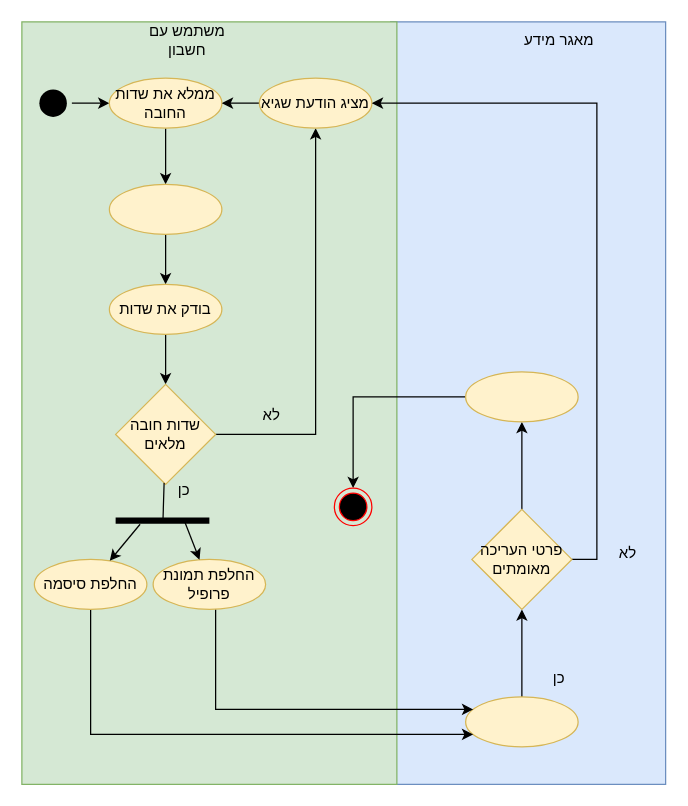
The diagram is 688 pixels wide and 806 high, and some of its shapes have lost their labels. The centre of each missing label's shape, as x and y in pixels:
"בודק תקינות הפרטים" belongs at [521,721].
"לוחץ על כפתור התחברות" belongs at [165,208].
"שומר את הפרטי" belongs at [521,396].
